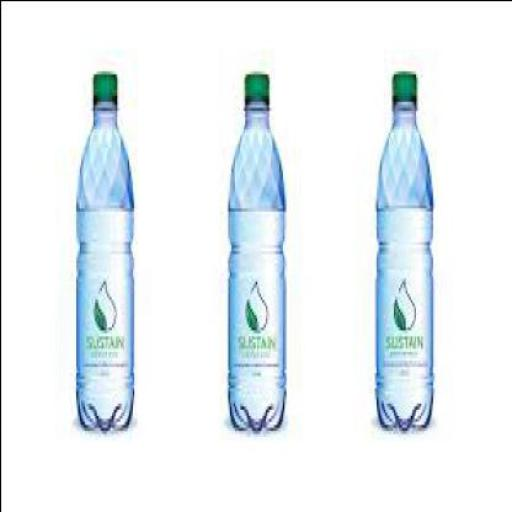plastic: (71, 70, 133, 432), (223, 67, 284, 433), (372, 68, 430, 430), (88, 67, 116, 104), (242, 64, 266, 103), (391, 67, 415, 104)
